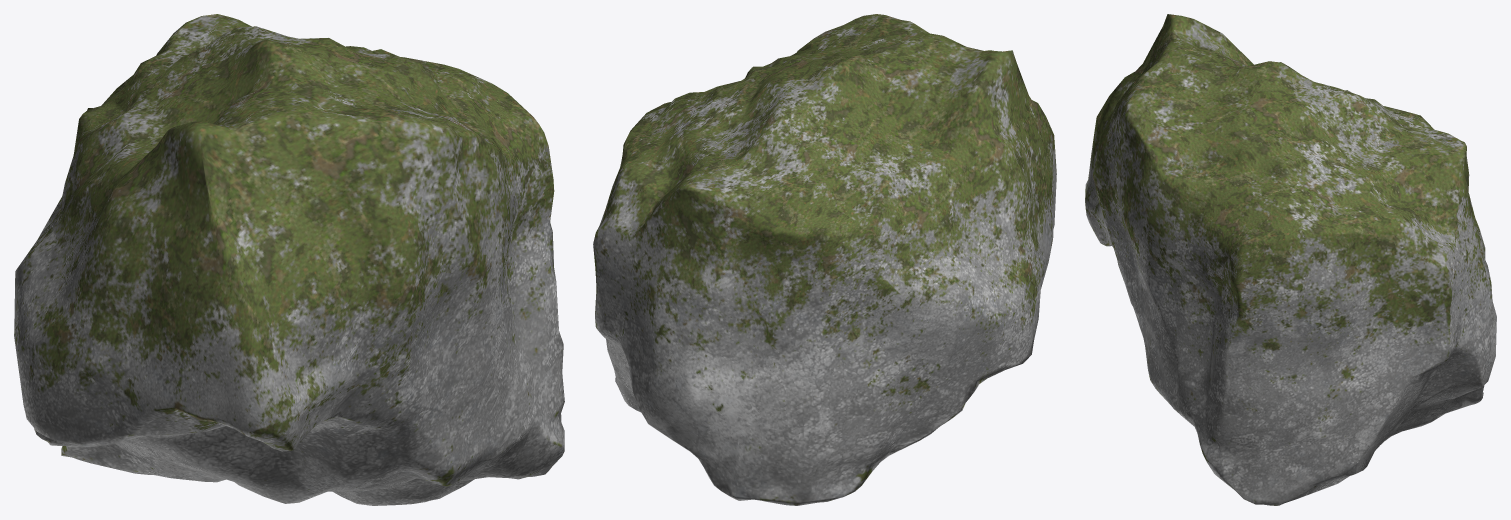
Rendered from rock1.glb.
3 renders of one model, left to right at view 1: azimuth 30°, elevation 25°; view 2: azimuth 150°, elevation 25°; view 3: azimuth 270°, elevation 25°, orthographic. The views are drawn at different scales.
Visible parts, largest first — view 1: QuarryRock04_QuarryRock04Shader_0; view 2: QuarryRock04_QuarryRock04Shader_0; view 3: QuarryRock04_QuarryRock04Shader_0.
Boxes of the visible parts, x1,y1,x2,y2 form: QuarryRock04_QuarryRock04Shader_0: (14,14,564,505); QuarryRock04_QuarryRock04Shader_0: (593,14,1056,505); QuarryRock04_QuarryRock04Shader_0: (1085,14,1496,505).
Bounding box in the file's own units: 1.92 × 1.84 × 1.87.
1 material, 1 textured.
